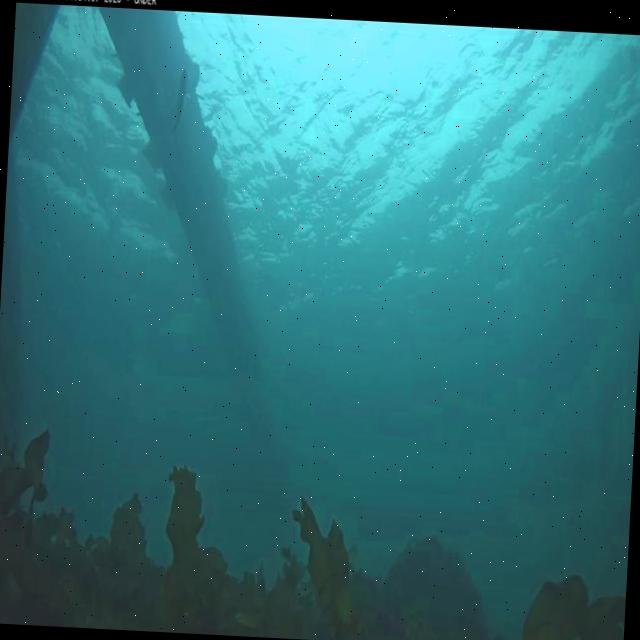fish: (173, 68, 189, 148)
